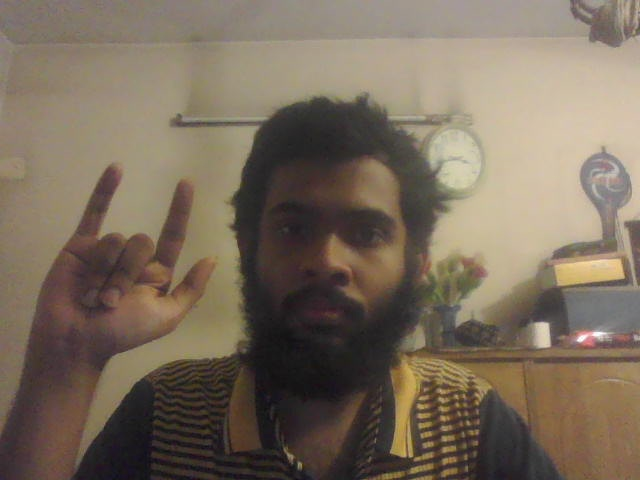I Love You: (39, 161, 214, 353)
